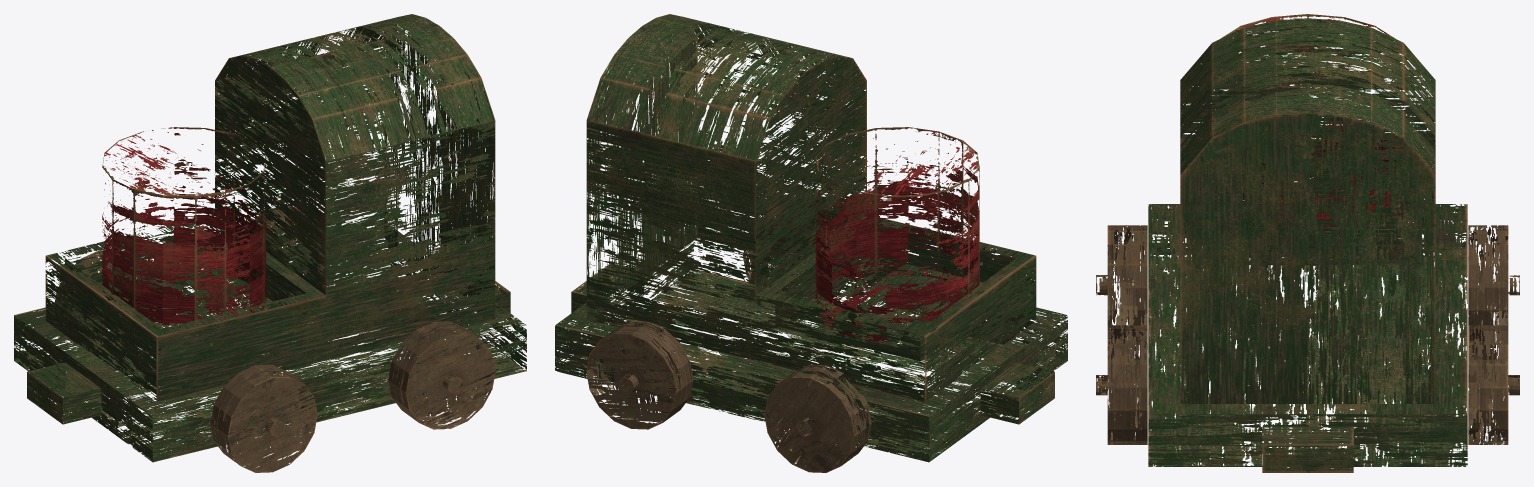
File: TrainCombine.obj
3 views of the same model, side by side, from view 1: azimuth 30°, elevation 25°; view 2: azimuth 150°, elevation 25°; view 3: azimuth 270°, elevation 25° (orthographic). The views are drawn at different scales.
Parts seen in each view (by area): view 1: Train_Combined; view 2: Train_Combined; view 3: Train_Combined.
Boxes of the visible parts, x1,y1,x2,y2 form: Train_Combined: (14, 14, 526, 472); Train_Combined: (555, 14, 1067, 472); Train_Combined: (1096, 14, 1519, 472).
Bounding box in the file's own units: 17.07 × 11.73 × 12.22.
